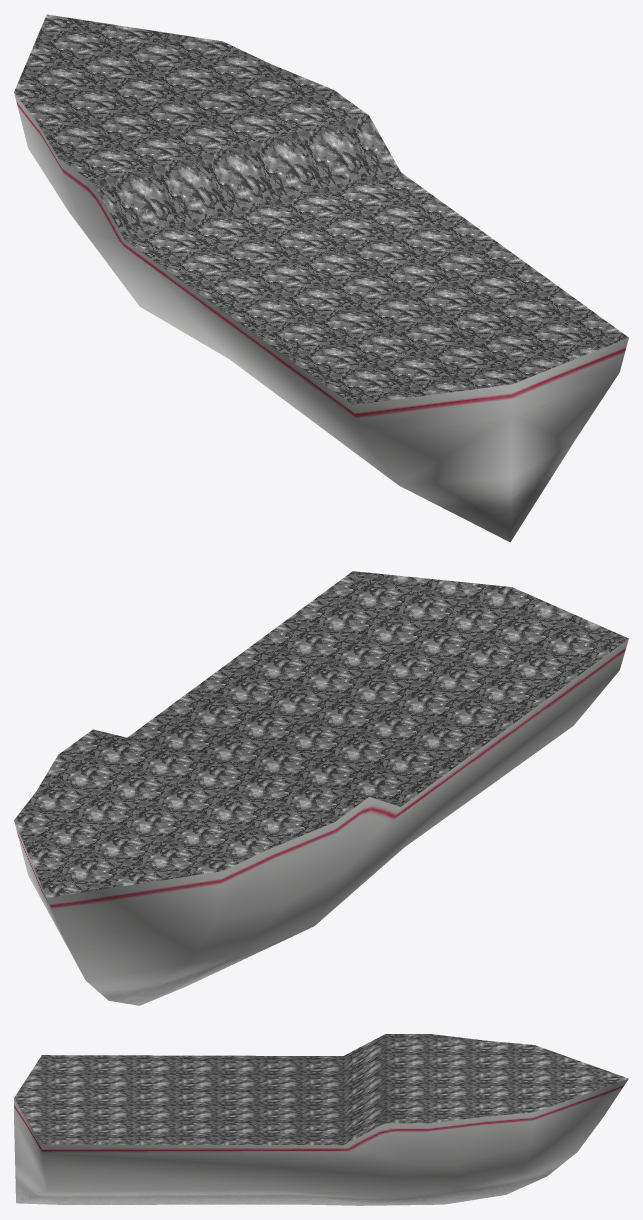
File: yacht03.obj
3 views of the same model, one above another, from view 1: azimuth 30°, elevation 25°; view 2: azimuth 150°, elevation 25°; view 3: azimuth 270°, elevation 25° (orthographic). The views are drawn at different scales.
Parts seen in each view (by area): view 1: hullfloor, hull; view 2: hullfloor, hull; view 3: hullfloor, hull.
Part boxes in pixels (box(x1,y1,x2,y2)): hullfloor: box(14, 14, 628, 404); hull: box(14, 92, 628, 542); hullfloor: box(14, 571, 628, 897); hull: box(14, 639, 628, 1005); hullfloor: box(14, 1034, 628, 1145); hull: box(14, 1078, 628, 1205).
Bounding box in the file's own units: 50.19 × 33.43 × 146.
